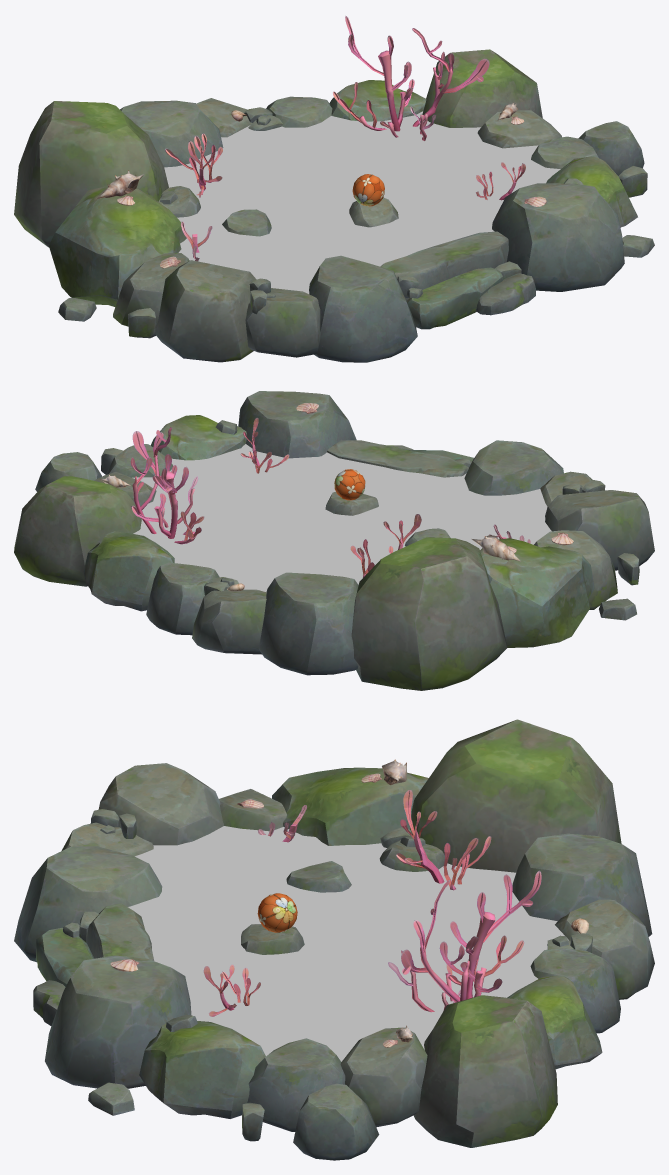
The model's file is Homeworld_Exterior_Common_Thing_Pool_01_Lod0.fbx.
The picture shows the model from 3 angles, top to bottom: view 1: azimuth 30°, elevation 25°; view 2: azimuth 150°, elevation 25°; view 3: azimuth 270°, elevation 25°; orthographic projection. The views are drawn at different scales.
Parts seen in each view (by area): view 1: Homeworld_Exterior_Common_Thing_Pool_01_A_Lod0, Homeworld_Exterior_Common_Thing_Pool_01_C_Lod0, Homeworld_Exterior_Common_Thing_Pool_01_B_Lod0, Homeworld_Exterior_Common_Thing_Pool_01_E_Lod0, Homeworld_Exterior_Common_Thing_Pool_01_D_Lod0; view 2: Homeworld_Exterior_Common_Thing_Pool_01_A_Lod0, Homeworld_Exterior_Common_Thing_Pool_01_C_Lod0, Homeworld_Exterior_Common_Thing_Pool_01_B_Lod0, Homeworld_Exterior_Common_Thing_Pool_01_E_Lod0, Homeworld_Exterior_Common_Thing_Pool_01_D_Lod0; view 3: Homeworld_Exterior_Common_Thing_Pool_01_A_Lod0, Homeworld_Exterior_Common_Thing_Pool_01_C_Lod0, Homeworld_Exterior_Common_Thing_Pool_01_B_Lod0, Homeworld_Exterior_Common_Thing_Pool_01_E_Lod0, Homeworld_Exterior_Common_Thing_Pool_01_D_Lod0.
Part boxes in pixels (bbox=[...]): Homeworld_Exterior_Common_Thing_Pool_01_A_Lod0: bbox=[14, 49, 654, 362]; Homeworld_Exterior_Common_Thing_Pool_01_C_Lod0: bbox=[164, 111, 560, 293]; Homeworld_Exterior_Common_Thing_Pool_01_B_Lod0: bbox=[165, 16, 525, 261]; Homeworld_Exterior_Common_Thing_Pool_01_E_Lod0: bbox=[95, 103, 546, 268]; Homeworld_Exterior_Common_Thing_Pool_01_D_Lod0: bbox=[352, 174, 384, 206]; Homeworld_Exterior_Common_Thing_Pool_01_A_Lod0: bbox=[14, 391, 654, 690]; Homeworld_Exterior_Common_Thing_Pool_01_C_Lod0: bbox=[132, 444, 551, 592]; Homeworld_Exterior_Common_Thing_Pool_01_B_Lod0: bbox=[130, 417, 530, 577]; Homeworld_Exterior_Common_Thing_Pool_01_E_Lod0: bbox=[100, 403, 573, 591]; Homeworld_Exterior_Common_Thing_Pool_01_D_Lod0: bbox=[334, 469, 365, 500]; Homeworld_Exterior_Common_Thing_Pool_01_A_Lod0: bbox=[14, 719, 654, 1160]; Homeworld_Exterior_Common_Thing_Pool_01_C_Lod0: bbox=[128, 826, 568, 1061]; Homeworld_Exterior_Common_Thing_Pool_01_B_Lod0: bbox=[203, 790, 541, 1016]; Homeworld_Exterior_Common_Thing_Pool_01_E_Lod0: bbox=[110, 759, 588, 1047]; Homeworld_Exterior_Common_Thing_Pool_01_D_Lod0: bbox=[257, 893, 297, 932].
Size of the model in its own units: 10.66 by 2.68 by 8.13.
